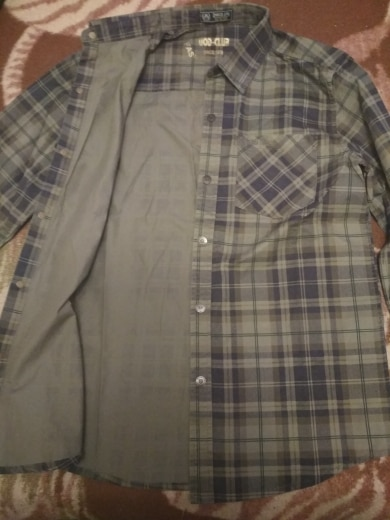shirts: (1, 4, 389, 494)
